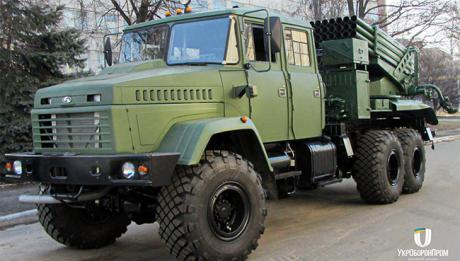rszo: (0, 10, 444, 259)
